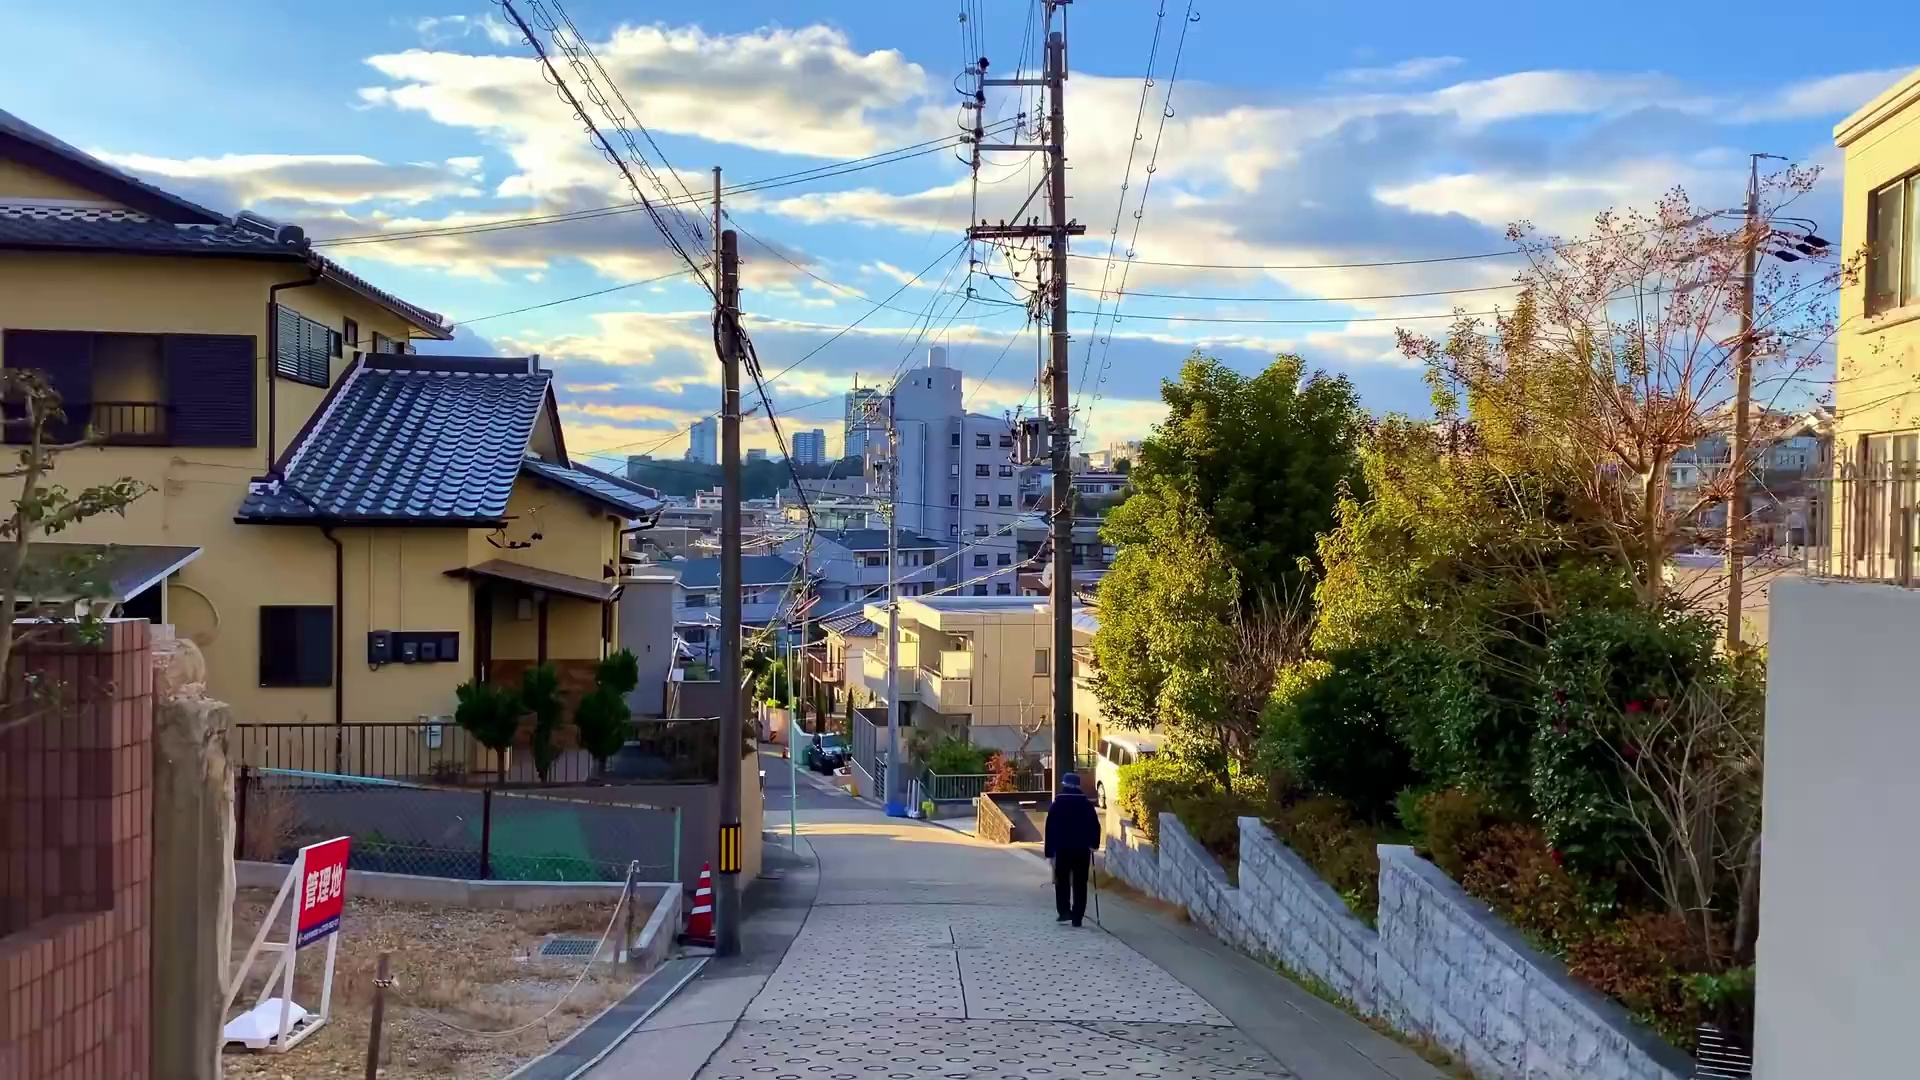person: (1043, 770, 1097, 921)
